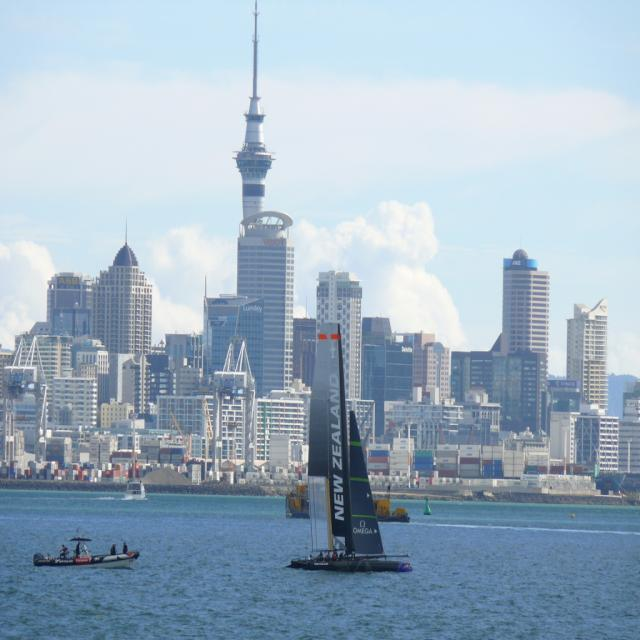Boat: (279, 298, 414, 584), (34, 536, 138, 570)
